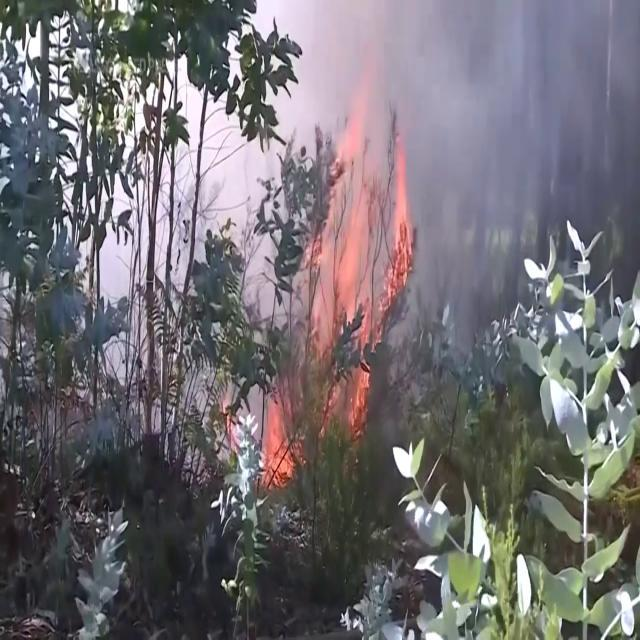Fire: (300, 130, 416, 440), (256, 377, 298, 491)
Smoke: (289, 0, 640, 297)
